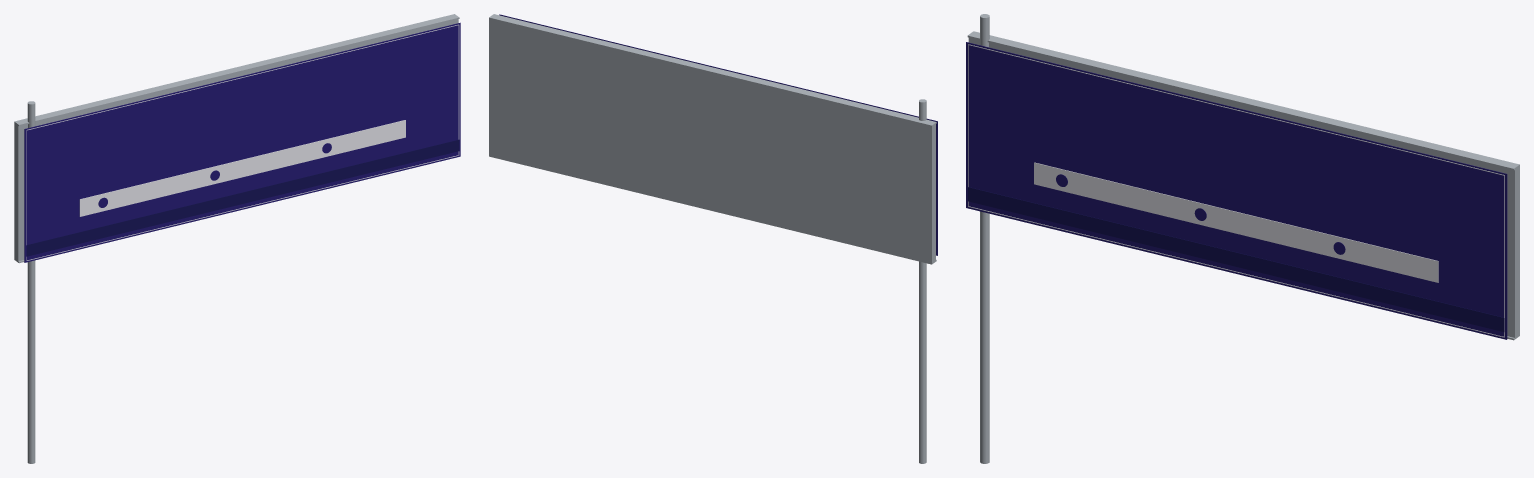
File: Chữ inox gắn đá arylic.obj
3 views of the same model, side by side, from view 1: azimuth 30°, elevation 25°; view 2: azimuth 150°, elevation 25°; view 3: azimuth 330°, elevation 25° (orthographic). The views are drawn at different scales.
Visible parts, largest first — view 1: mat_nen_xanh_tim, thanh_thong_tin, khung_bien_nhom, dai_chan_xanh, tru_thep_1, nep_nhom_tren, vien_tren, vien_duoi; view 2: khung_bien_nhom, tru_thep_1, mat_nen_xanh_tim, nep_nhom_tren; view 3: mat_nen_xanh_tim, thanh_thong_tin, khung_bien_nhom, dai_chan_xanh, tru_thep_1, nep_nhom_tren, vien_tren, vien_duoi.
Boxes of the visible parts, <box> form: mat_nen_xanh_tim: <box>24,22,460,262</box>; thanh_thong_tin: <box>79,120,405,216</box>; khung_bien_nhom: <box>14,14,458,262</box>; dai_chan_xanh: <box>26,139,459,256</box>; tru_thep_1: <box>27,101,35,463</box>; nep_nhom_tren: <box>18,17,459,126</box>; vien_tren: <box>26,24,458,130</box>; vien_duoi: <box>27,155,458,260</box>; khung_bien_nhom: <box>489,14,935,264</box>; tru_thep_1: <box>919,99,926,463</box>; mat_nen_xanh_tim: <box>499,14,937,255</box>; nep_nhom_tren: <box>493,14,936,123</box>; mat_nen_xanh_tim: <box>966,42,1507,339</box>; thanh_thong_tin: <box>1034,162,1438,282</box>; khung_bien_nhom: <box>968,31,1519,339</box>; dai_chan_xanh: <box>968,187,1504,331</box>; tru_thep_1: <box>980,14,989,463</box>; nep_nhom_tren: <box>967,35,1514,170</box>; vien_tren: <box>968,44,1504,175</box>; vien_duoi: <box>968,206,1504,337</box>.
Size of the model in its own units: 5 by 3.9 by 0.176.
